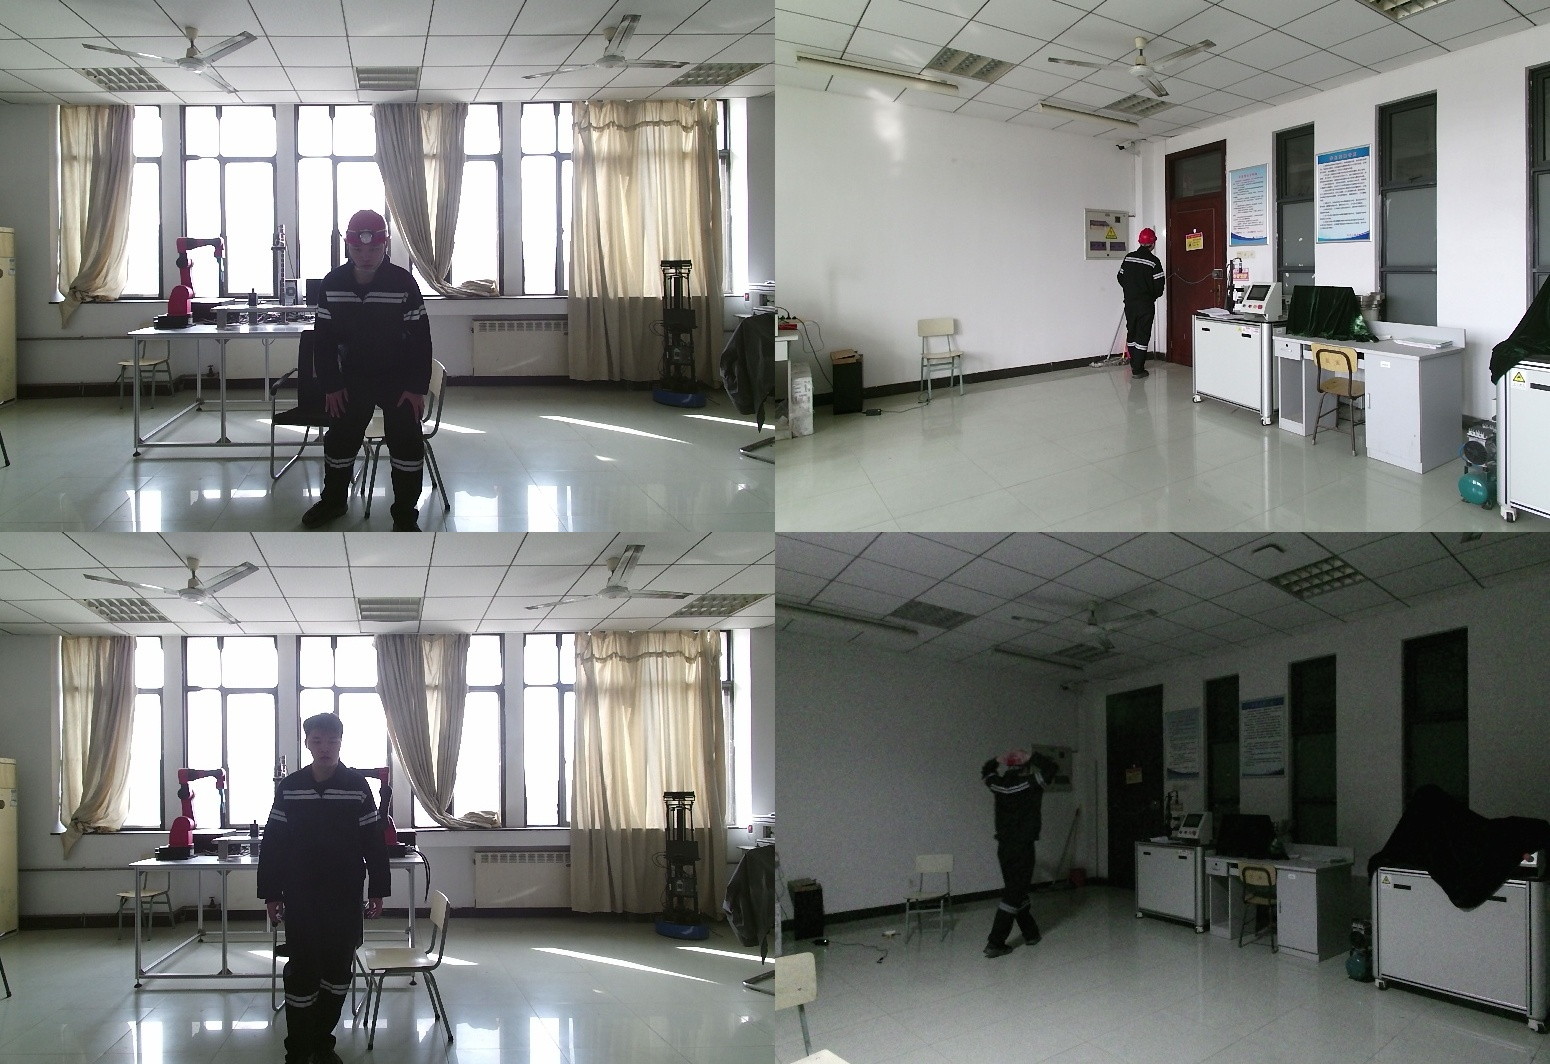person: (262, 712, 399, 1064), (308, 211, 451, 532), (970, 737, 1057, 972), (1116, 229, 1165, 380)
